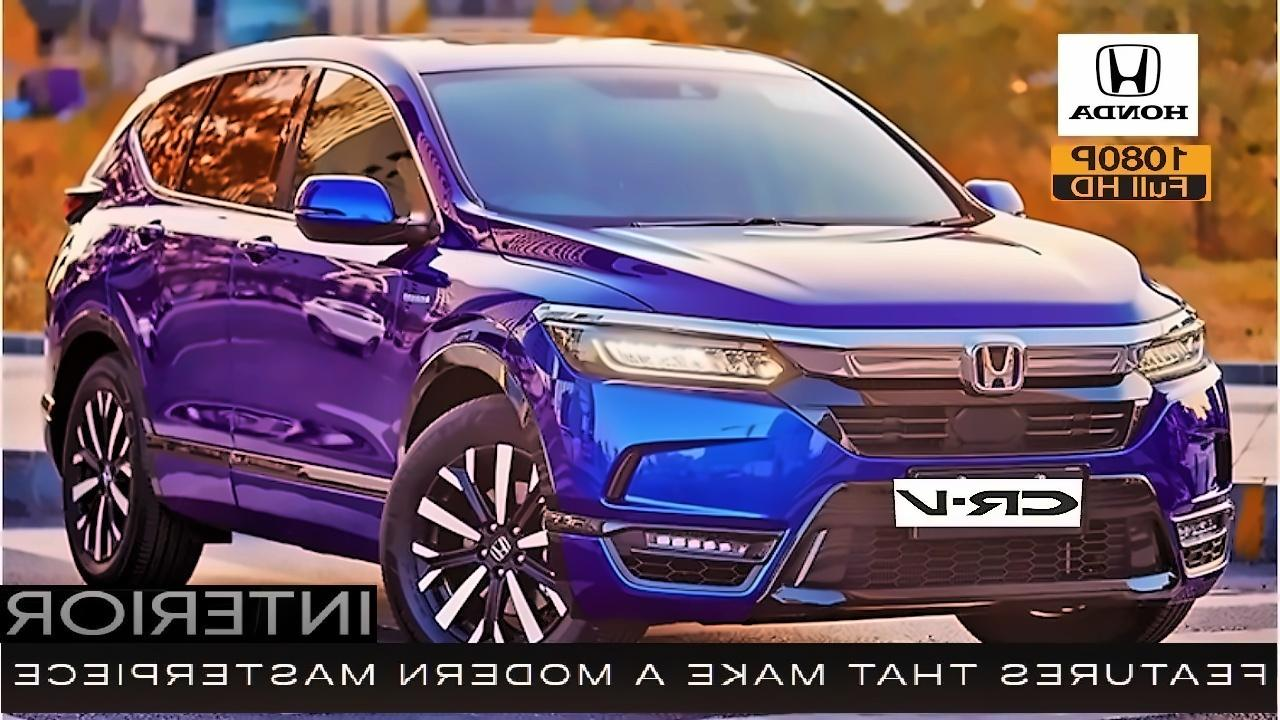Car hood: (470, 217, 1191, 332)
Driver-s door - -F-R-: (223, 28, 452, 583)
Fender - -F-R-: (367, 210, 565, 544)
Fender - -R-R-: (42, 133, 171, 409)
Front bumper: (497, 311, 1236, 624)
Headlight - -L-: (1131, 312, 1213, 383)
Headlight - -R-: (537, 301, 804, 395)
Passenger-s door - -R-R-: (118, 23, 317, 541)
Side bumper - -R-: (129, 425, 386, 572)
Side mirror - -L-: (966, 172, 1029, 220)
Side mirror - -R-: (295, 173, 430, 260)
